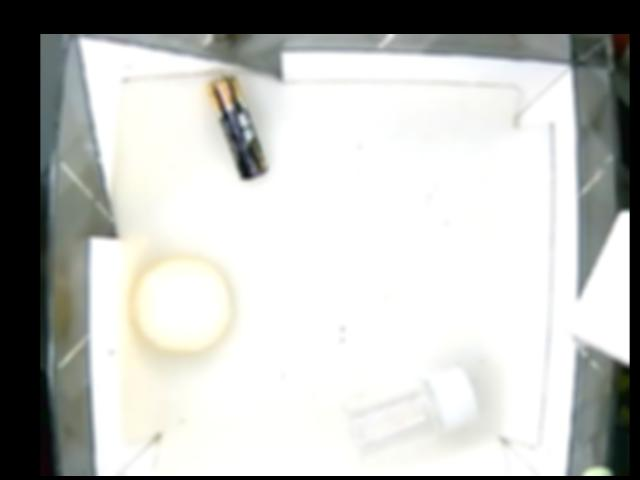Battery: (212, 76, 269, 181)
Bottle: (343, 361, 482, 455)
Mooli: (135, 255, 229, 351)
